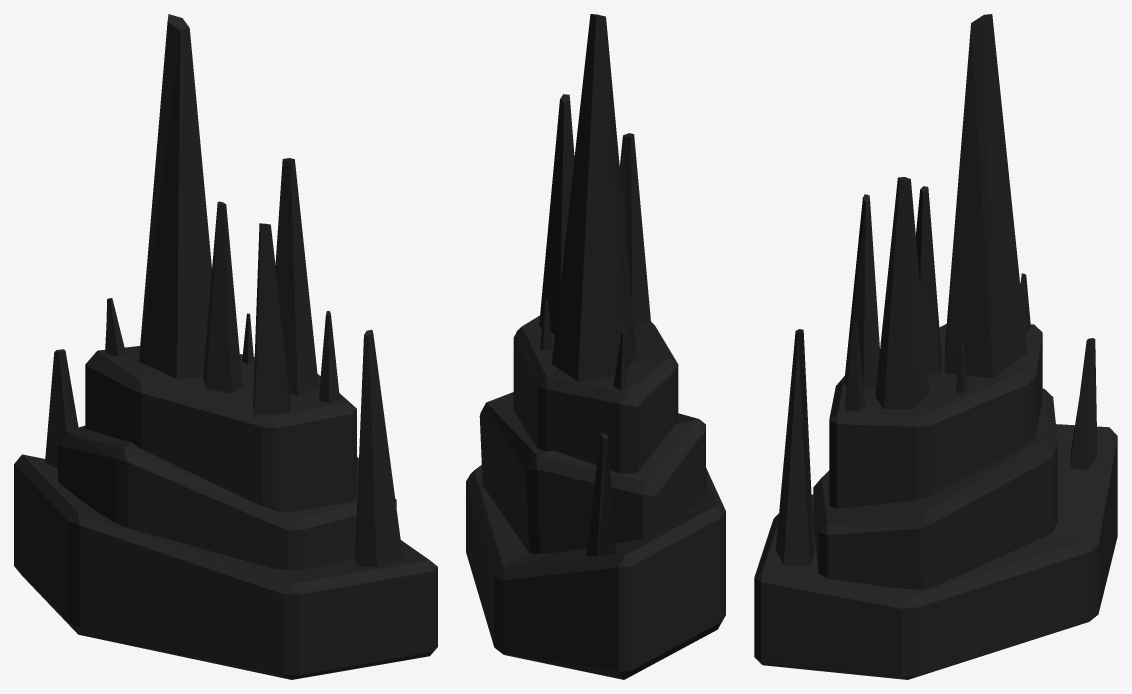
The model's file is stalagtiet_1.fbx.
3 views of the same model, side by side, from view 1: azimuth 30°, elevation 25°; view 2: azimuth 150°, elevation 25°; view 3: azimuth 270°, elevation 25° (orthographic). The views are drawn at different scales.
Parts seen in each view (by area): view 1: stalagtiet_1; view 2: stalagtiet_1; view 3: stalagtiet_1.
Part boxes in pixels (x1=…): stalagtiet_1: x1=14, y1=14, x2=437, y2=679; stalagtiet_1: x1=466, y1=14, x2=725, y2=679; stalagtiet_1: x1=754, y1=14, x2=1117, y2=679.
Bounding box in the file's own units: 1.96 × 4 × 2.24.
